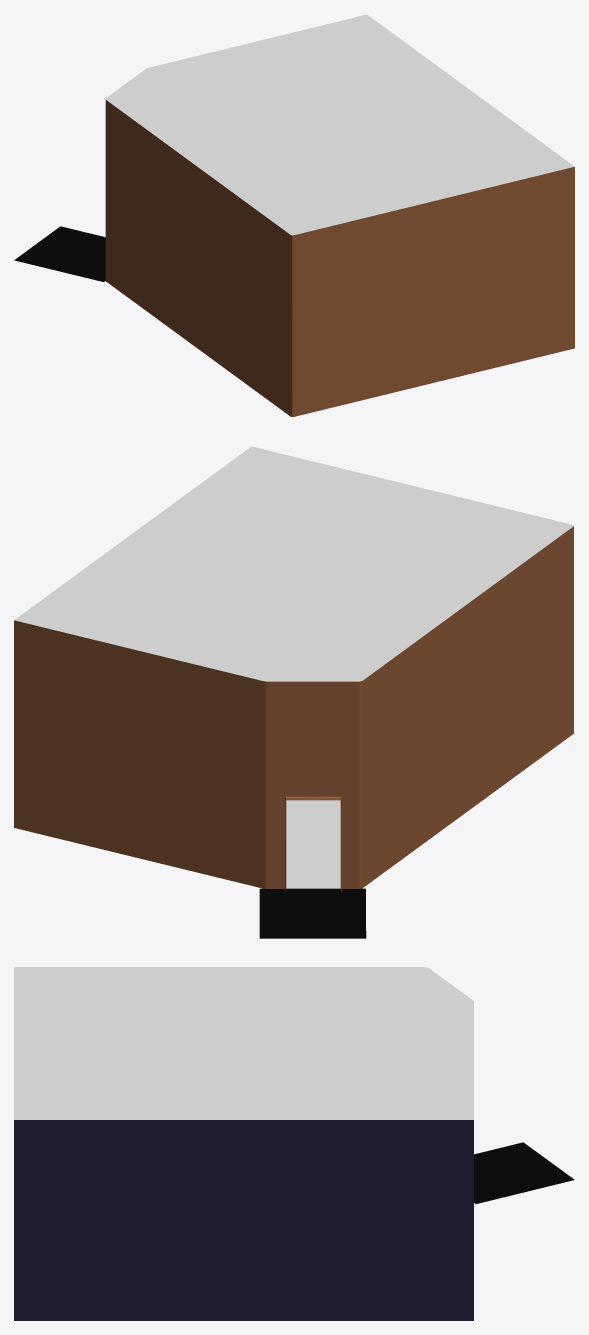
File: Interior_Cafe.fbx
3 views of the same model, one above another, from view 1: azimuth 30°, elevation 25°; view 2: azimuth 150°, elevation 25°; view 3: azimuth 270°, elevation 25° (orthographic). The views are drawn at different scales.
Parts seen in each view (by area): view 1: Interior_Cafe; view 2: Interior_Cafe; view 3: Interior_Cafe.
Boxes of the visible parts, x1=… form: Interior_Cafe: x1=14, y1=14, x2=574, y2=417; Interior_Cafe: x1=14, y1=446, x2=574, y2=938; Interior_Cafe: x1=14, y1=967, x2=574, y2=1320.
Bounding box in the file's own units: 968 × 508 × 1286.
